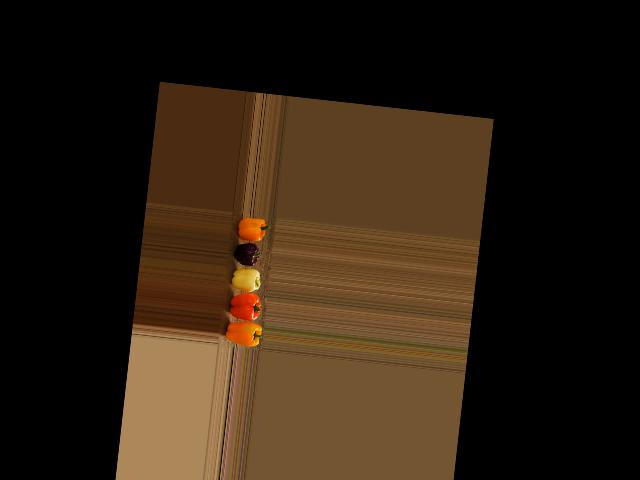bell_pepper: (231, 213, 272, 241)
